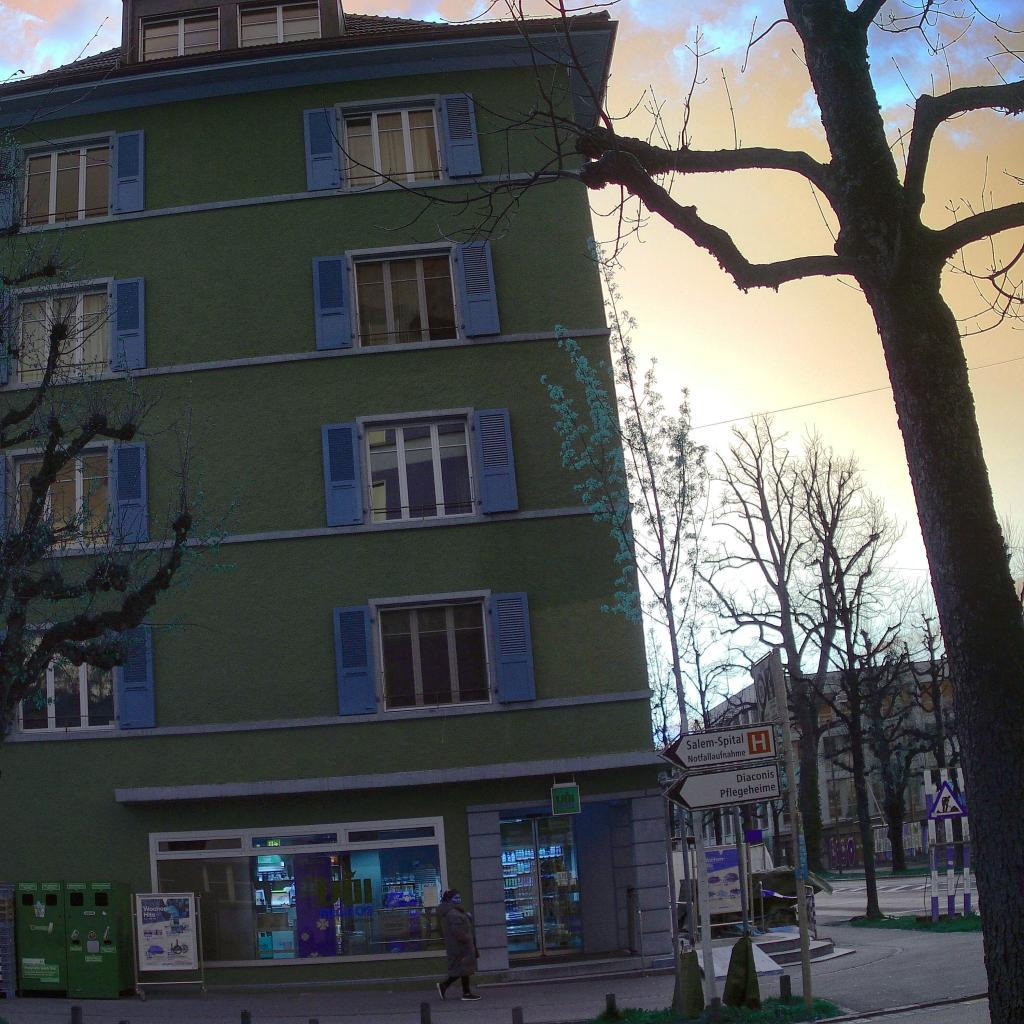balcony-fence: (382, 686, 493, 714), (369, 500, 478, 524), (358, 325, 460, 349), (17, 359, 109, 384), (17, 713, 120, 733), (22, 205, 110, 228), (15, 531, 110, 552), (346, 168, 444, 188)
facade: (0, 0, 972, 1000)
non-building-infrastructure: (0, 880, 208, 1000), (691, 841, 755, 941)
shop: (148, 815, 453, 969), (500, 810, 582, 960)
street: (0, 873, 988, 1024)
traffic-infrastructure: (655, 643, 815, 1010), (923, 767, 972, 920)
vegetation: (320, 0, 1024, 1024), (0, 15, 247, 752), (570, 994, 849, 1024), (846, 908, 984, 934)
window: (377, 599, 492, 712), (365, 419, 476, 523), (17, 630, 119, 732), (354, 252, 459, 347), (16, 452, 109, 551), (19, 289, 108, 383), (344, 105, 443, 187), (23, 142, 108, 226), (141, 12, 217, 61), (240, 0, 320, 46), (825, 778, 843, 819), (822, 735, 840, 772), (819, 693, 835, 730), (919, 681, 935, 713), (872, 777, 885, 814), (847, 779, 858, 815), (939, 679, 954, 702), (882, 692, 894, 719)
